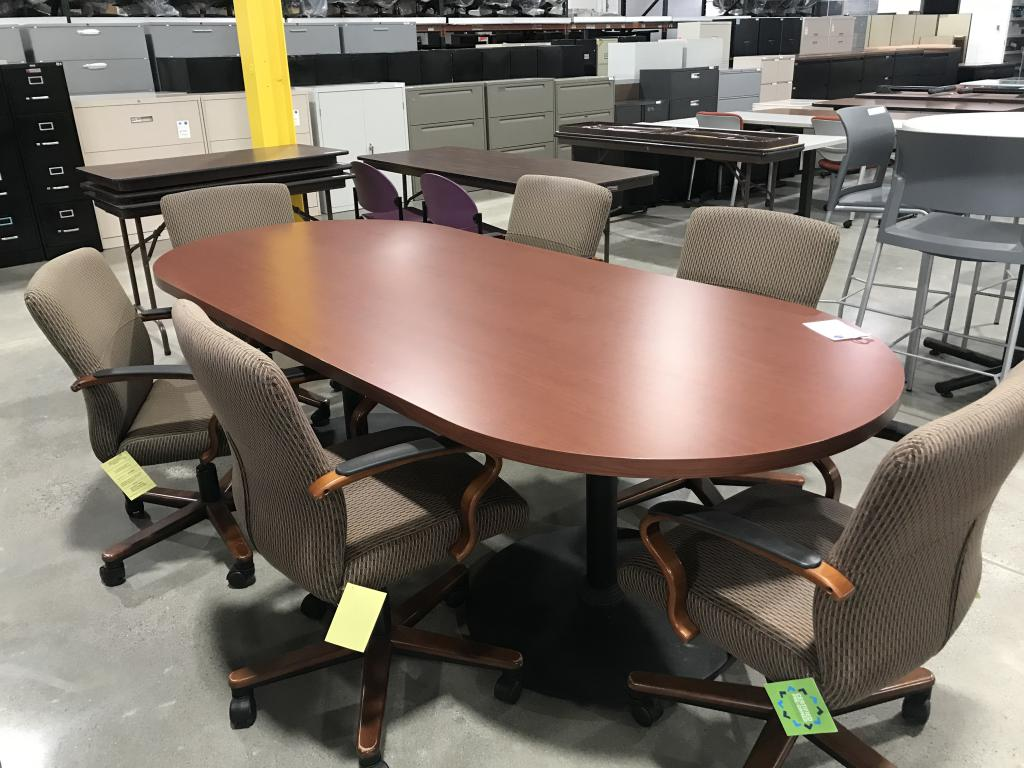conference_table: (153, 219, 904, 592), (76, 142, 346, 356), (359, 145, 668, 264), (902, 111, 1024, 138)
